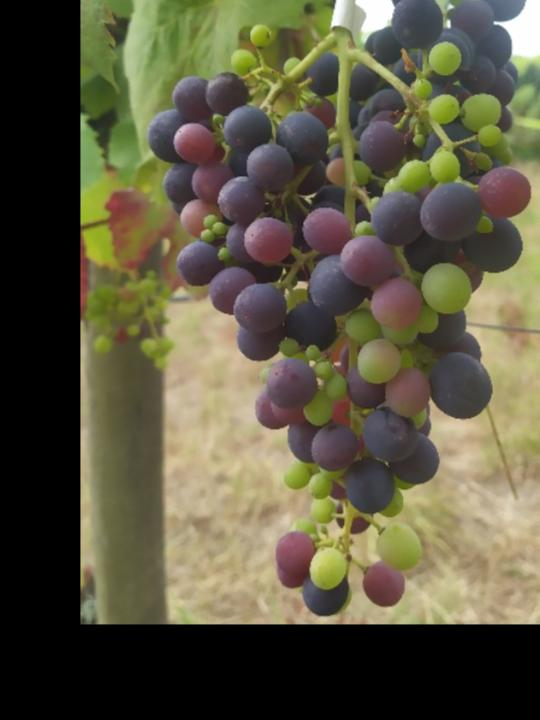grape: (143, 0, 535, 621)
